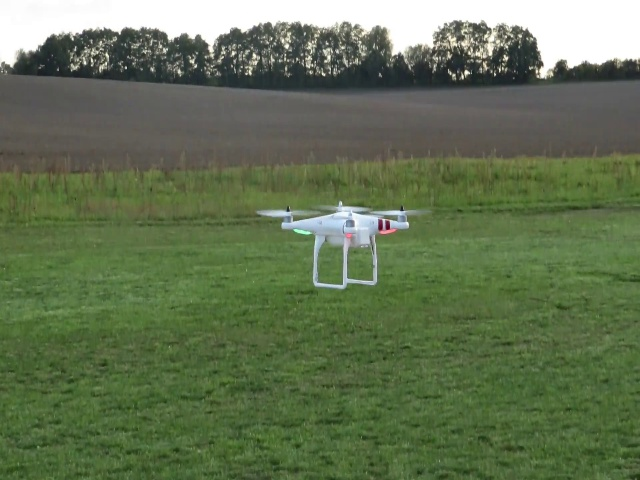drone: (255, 199, 431, 292)
